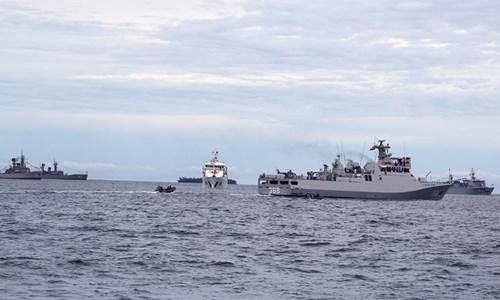MIL_Ship: (254, 138, 451, 202), (430, 155, 498, 197), (200, 148, 231, 193), (0, 152, 45, 182), (41, 161, 91, 181)
